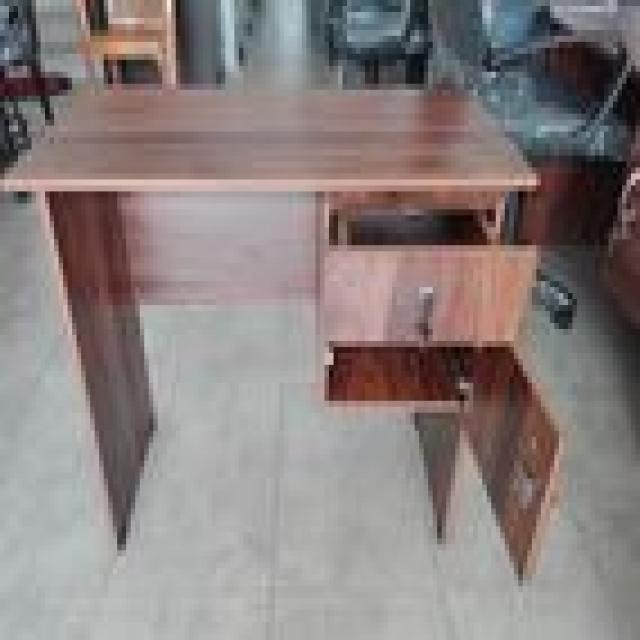others: (4, 66, 577, 586)
